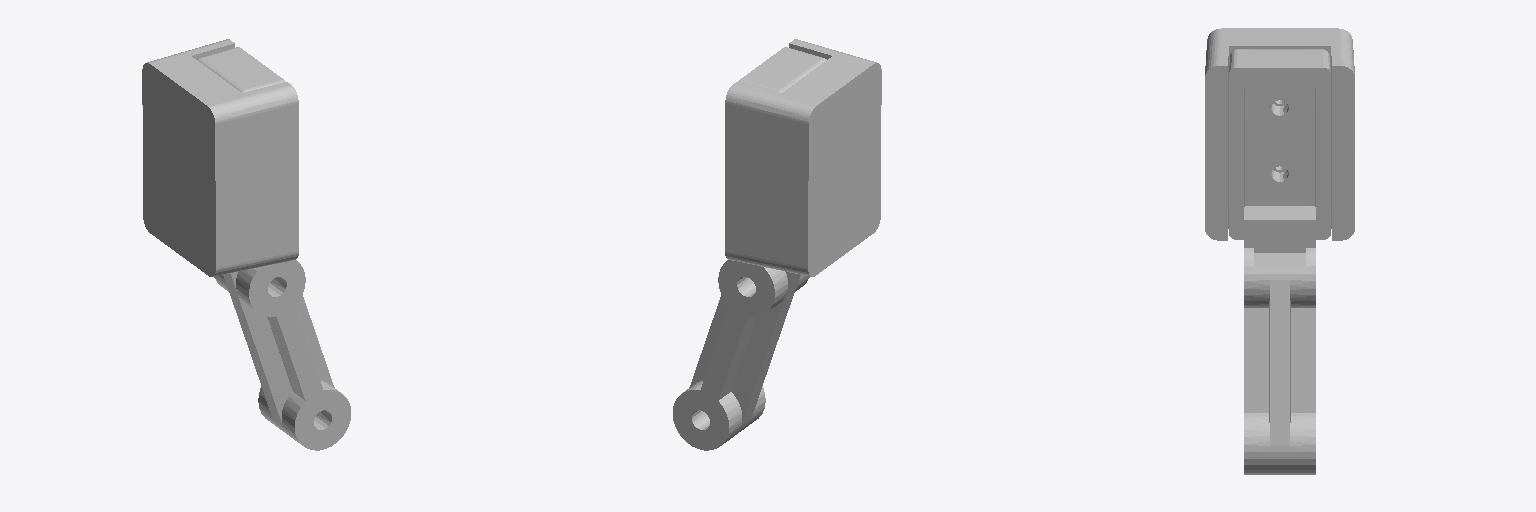
The model's file is gripper_right1.obj.
The picture shows the model from 3 angles: view 1: azimuth 30°, elevation 25°; view 2: azimuth 150°, elevation 25°; view 3: azimuth 270°, elevation 25°; orthographic projection.
Visible parts, largest first — view 1: gripper_right1; view 2: gripper_right1; view 3: gripper_right1.
Boxes of the visible parts, <box> form: gripper_right1: <box>142,39,350,450</box>; gripper_right1: <box>673,39,881,450</box>; gripper_right1: <box>1205,28,1354,474</box>.
Size of the model in its own units: 0.0244 by 0.0582 by 0.0207.